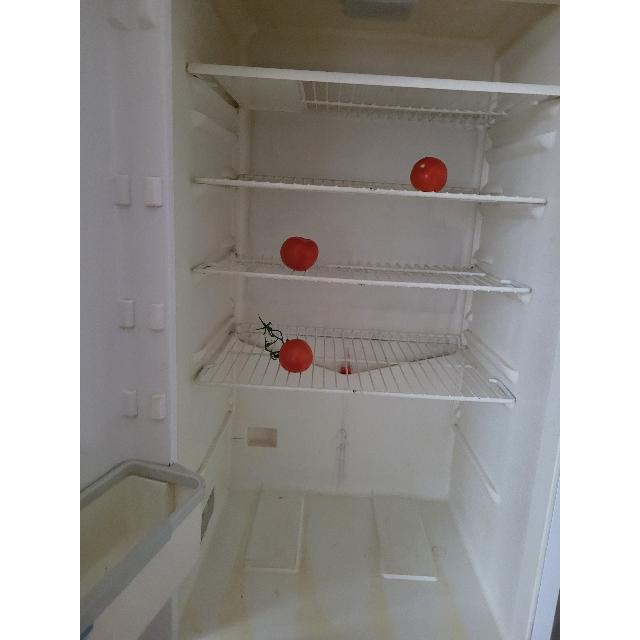tomato: (279, 235, 319, 273), (409, 156, 448, 194), (278, 338, 314, 374)
